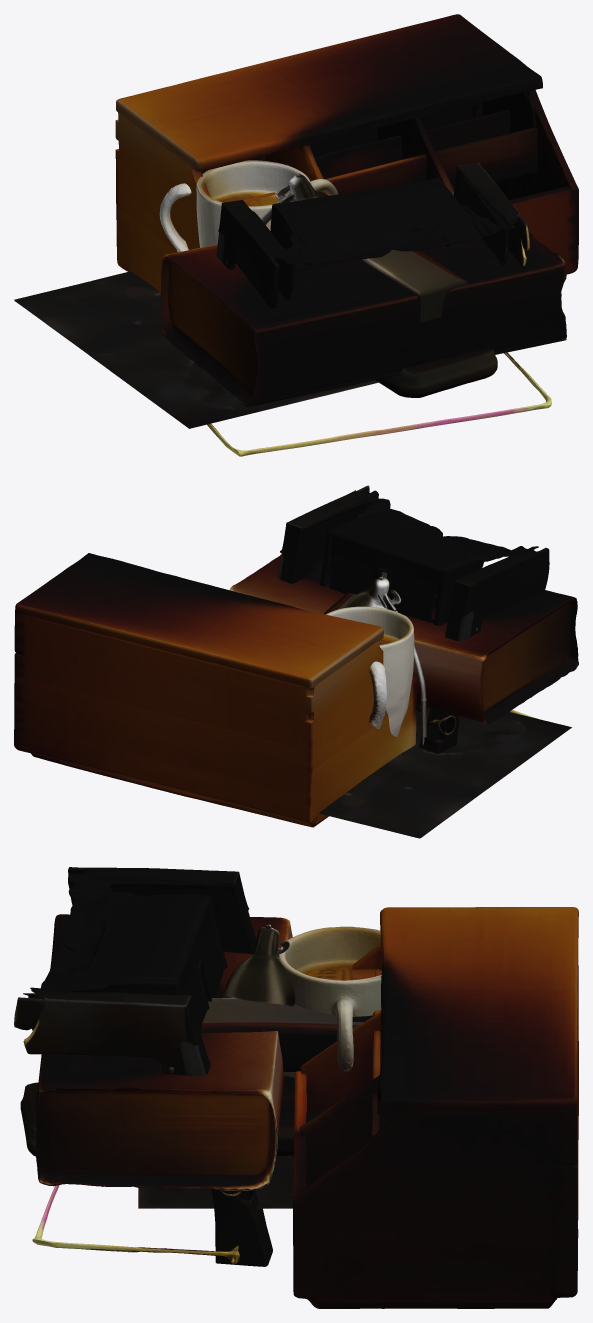
Rendered from scenegen.glb.
The picture shows the model from 3 angles, top to bottom: view 1: azimuth 30°, elevation 25°; view 2: azimuth 150°, elevation 25°; view 3: azimuth 270°, elevation 25°; orthographic projection. The views are drawn at different scales.
Visible parts, largest first — view 1: geometry_4, geometry_1, geometry_5, geometry_0, geometry_3, geometry_2; view 2: geometry_4, geometry_5, geometry_0, geometry_1, geometry_2; view 3: geometry_4, geometry_5, geometry_1, geometry_0, geometry_3, geometry_2.
Part boxes in pixels (x1,y1,x2,y2): geometry_4: (115, 14, 578, 291); geometry_1: (160, 192, 566, 406); geometry_5: (207, 162, 551, 456); geometry_0: (14, 160, 378, 428); geometry_3: (360, 249, 497, 397); geometry_2: (261, 173, 328, 224); geometry_4: (14, 553, 416, 827); geometry_5: (277, 485, 549, 753); geometry_0: (319, 606, 571, 838); geometry_1: (229, 554, 578, 724); geometry_2: (345, 576, 426, 745); geometry_4: (293, 907, 578, 1308); geometry_5: (14, 867, 272, 1266); geometry_1: (35, 914, 292, 1190); geometry_0: (138, 926, 381, 1208); geometry_3: (20, 997, 372, 1156); geometry_2: (223, 924, 294, 1006).
Size of the model in its own units: 1.96 by 0.898 by 1.78.
6 materials, 6 textured.
